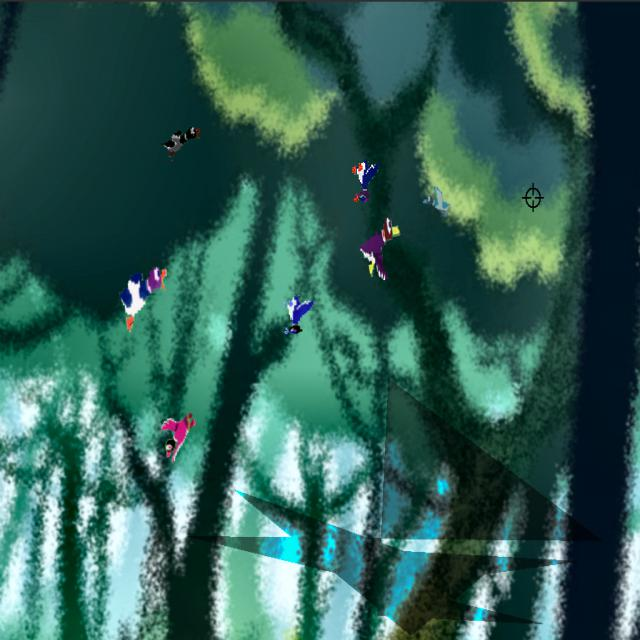duck: (109, 251, 171, 335), (359, 211, 406, 279), (158, 406, 200, 462), (160, 124, 204, 166)
falling_duck: (286, 282, 314, 340), (353, 153, 379, 215)
